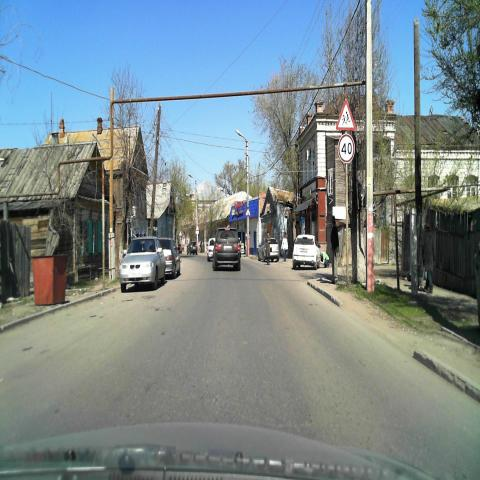1_23: (336, 100, 357, 132)
3_24: (336, 133, 356, 165)
